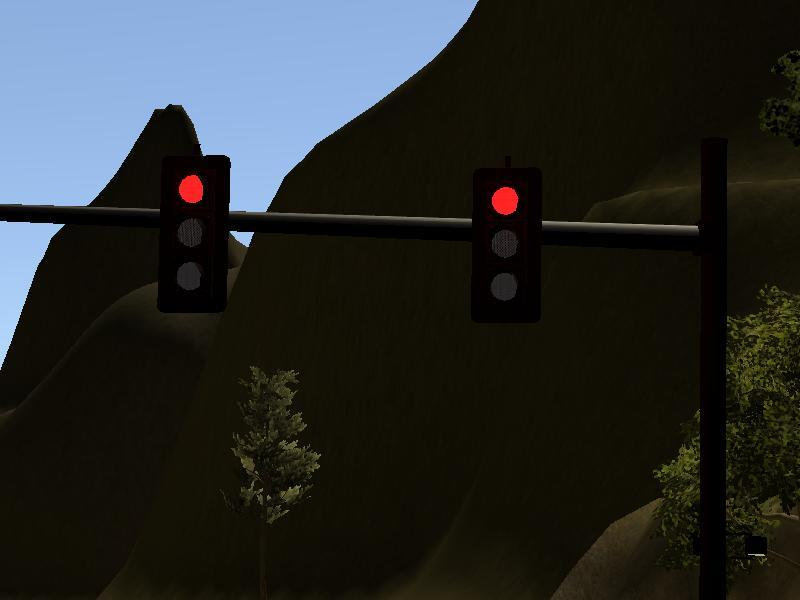Red: (159, 155, 227, 313), (472, 169, 540, 323)
